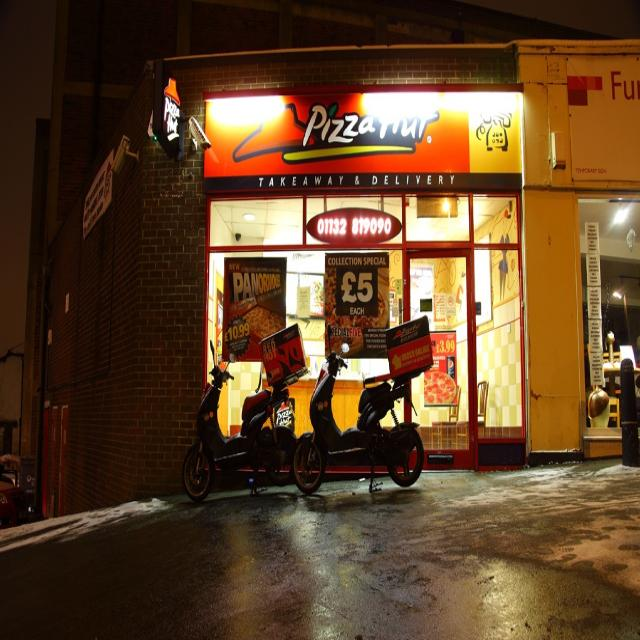Motorbike: (171, 317, 421, 510)
